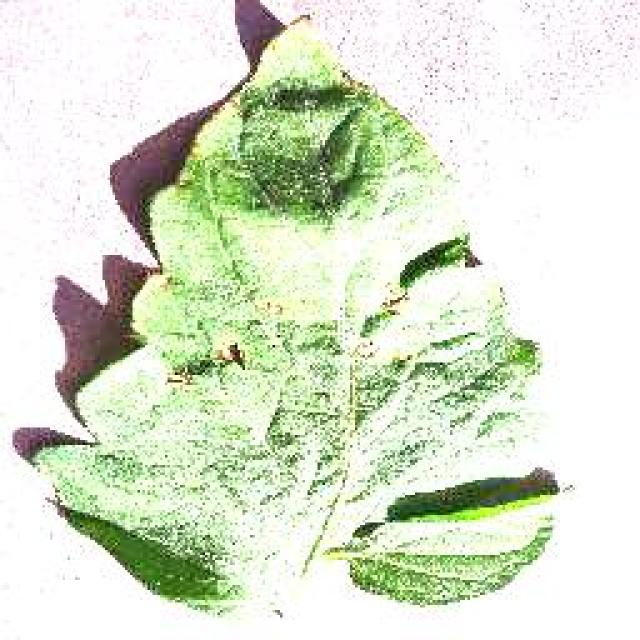Tomato___Target_Spot: (35, 22, 555, 612)
